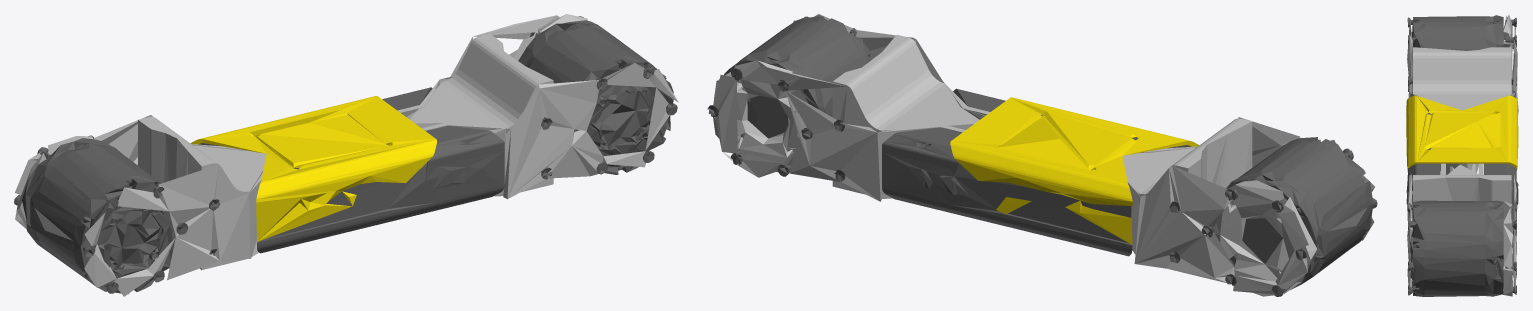
The picture shows the model from 3 angles, left to right: view 1: azimuth 30°, elevation 25°; view 2: azimuth 150°, elevation 25°; view 3: azimuth 270°, elevation 25°; orthographic projection. The views are drawn at different scales.
Parts seen in each view (by area): view 1: colored_link2_anodized_grey, colored_link2_matte_black, colored_link2_seeed_yellow, colored_link2_hardware_black; view 2: colored_link2_anodized_grey, colored_link2_matte_black, colored_link2_seeed_yellow, colored_link2_hardware_black; view 3: colored_link2_matte_black, colored_link2_anodized_grey, colored_link2_seeed_yellow, colored_link2_hardware_black.
Boxes of the visible parts, x1,y1,x2,y2 form: colored_link2_anodized_grey: (15, 14, 678, 296); colored_link2_matte_black: (22, 20, 673, 294); colored_link2_seeed_yellow: (190, 96, 436, 241); colored_link2_hardware_black: (14, 16, 677, 293); colored_link2_anodized_grey: (713, 14, 1374, 296); colored_link2_matte_black: (724, 16, 1373, 289); colored_link2_seeed_yellow: (950, 97, 1199, 244); colored_link2_hardware_black: (707, 16, 1377, 296); colored_link2_matte_black: (1406, 15, 1518, 296); colored_link2_anodized_grey: (1407, 14, 1518, 296); colored_link2_seeed_yellow: (1406, 95, 1518, 171); colored_link2_hardware_black: (1407, 17, 1516, 294).
Size of the model in its own units: 0.3261 by 0.0589 by 0.0678.
